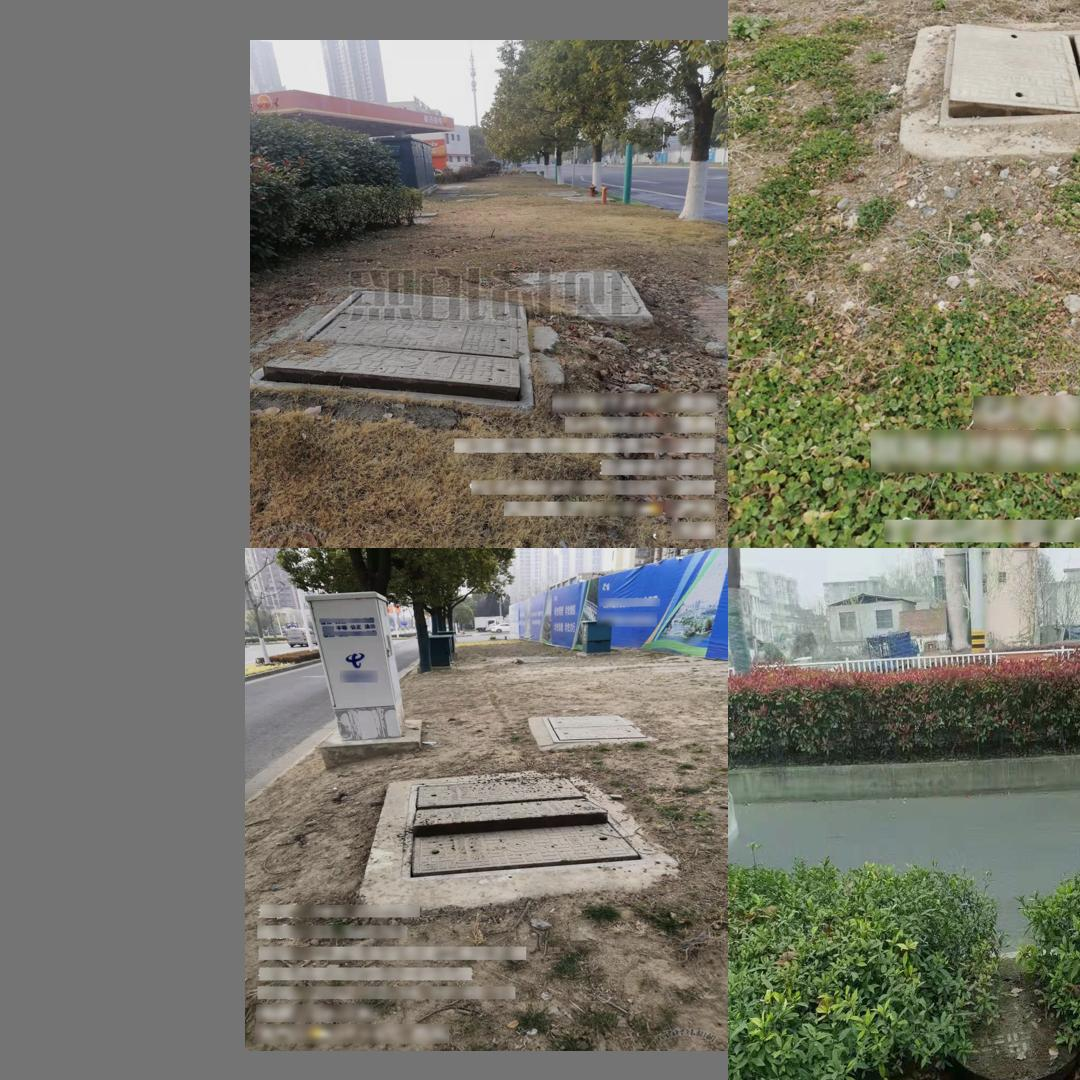good: (504, 268, 654, 328), (540, 712, 655, 743)
uncovered: (250, 290, 533, 410), (403, 776, 649, 883), (940, 20, 1080, 126), (940, 985, 1080, 1080)
